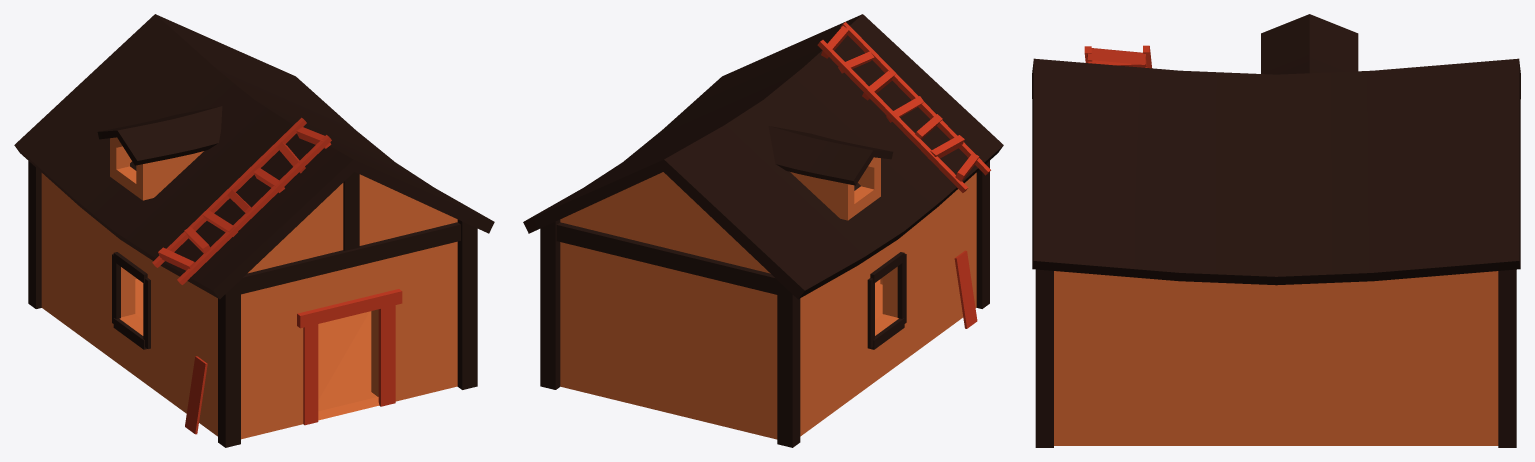
Rendered from barn.FBX.
The picture shows the model from 3 angles, left to right: view 1: azimuth 30°, elevation 25°; view 2: azimuth 150°, elevation 25°; view 3: azimuth 270°, elevation 25°; orthographic projection. The views are drawn at different scales.
Parts seen in each view (by area): view 1: Box003, chicken house, Box030, Box026, Box027, Box016, Box028, Box010, Box009, Box018, Box011, Box017 (+4 smaller); view 2: Box003, chicken house, Box031, Box028, Box029, Box016, Box026, Box017, Box018, Box052, Box015, Box013; view 3: chicken house, Box003, Box027, Box029, Box025.
Boxes of the visible parts, left/top/right/bottom form: Box003: left=41, top=173, right=457, bottom=439; chicken house: left=14, top=14, right=494, bottom=299; Box030: left=241, top=222, right=460, bottom=294; Box026: left=218, top=280, right=240, bottom=447; Box027: left=457, top=219, right=477, bottom=389; Box016: left=110, top=137, right=203, bottom=200; Box028: left=28, top=161, right=41, bottom=308; Box010: left=378, top=305, right=395, bottom=406; Box009: left=297, top=289, right=402, bottom=328; Box018: left=177, top=135, right=331, bottom=284; Box011: left=303, top=324, right=318, bottom=425; Box017: left=152, top=117, right=306, bottom=267; Box003: left=560, top=172, right=976, bottom=439; chicken house: left=523, top=14, right=1003, bottom=299; Box031: left=556, top=222, right=777, bottom=294; Box028: left=777, top=280, right=800, bottom=447; Box029: left=540, top=219, right=560, bottom=389; Box016: left=790, top=157, right=880, bottom=220; Box026: left=976, top=161, right=989, bottom=308; Box017: left=817, top=40, right=968, bottom=192; Box018: left=840, top=22, right=990, bottom=175; Box052: left=954, top=250, right=977, bottom=328; Box015: left=897, top=253, right=906, bottom=323; Box013: left=867, top=278, right=874, bottom=348; chicken house: left=1032, top=14, right=1520, bottom=285; Box003: left=1054, top=271, right=1498, bottom=445; Box027: left=1035, top=269, right=1053, bottom=447; Box029: left=1498, top=269, right=1516, bottom=447; Box025: left=1086, top=48, right=1145, bottom=64.
Bounding box in the file's own units: 10.74 × 9.33 × 12.69.
